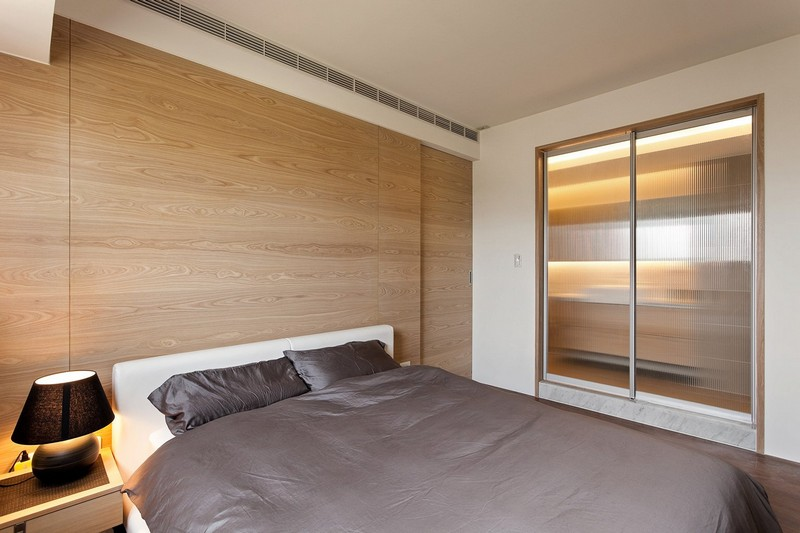bed: (110, 319, 787, 530)
lamp: (13, 366, 117, 484)
stool: (4, 456, 125, 529)
